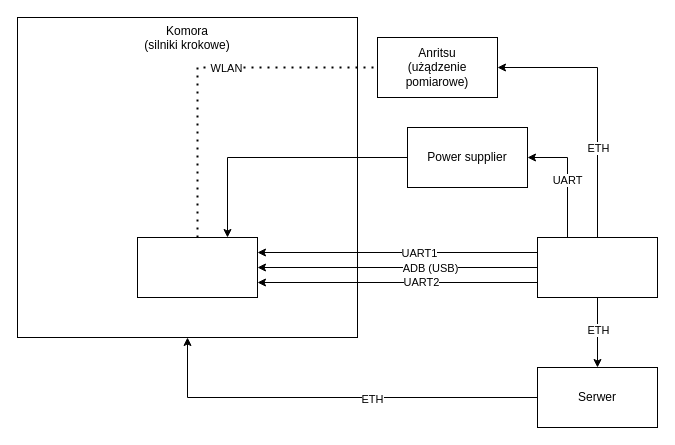
Some shapes in this 675 by 445 pixel diagram are drawn without their labels. Here are the shapes that lost their labels. From the top down, the centre of each, then its label:
(197,267): DUT
(597,267): PC (runs script)
